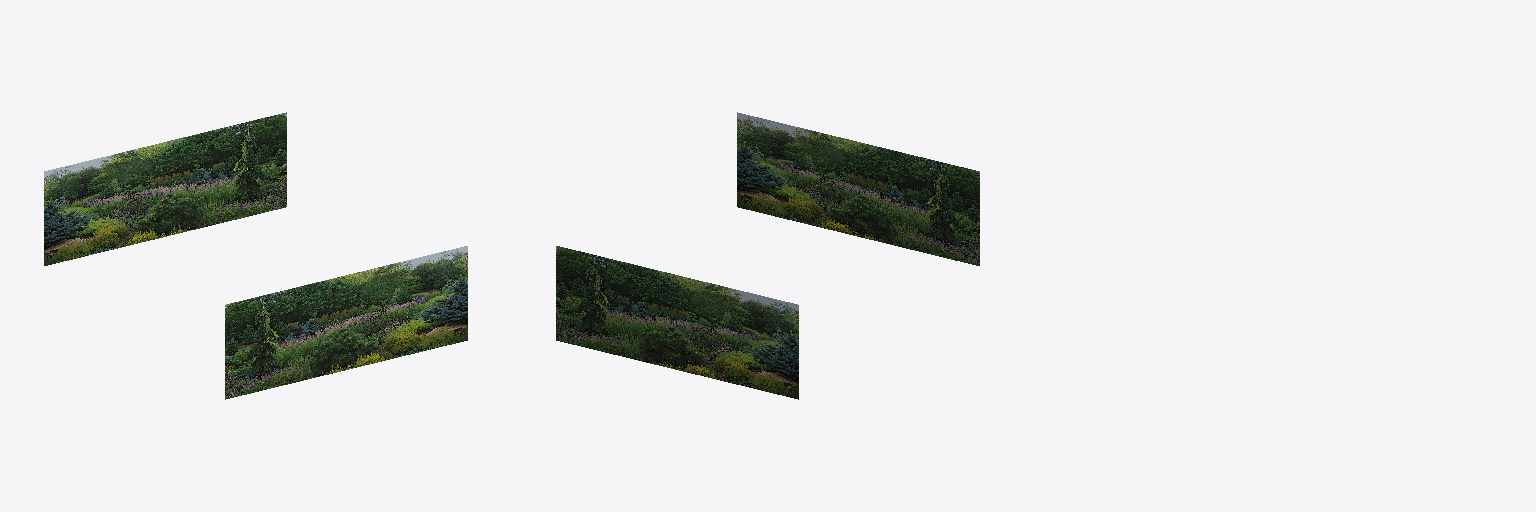
3 renders of one model, left to right at view 1: azimuth 30°, elevation 25°; view 2: azimuth 150°, elevation 25°; view 3: azimuth 270°, elevation 25°, orthographic.
Parts seen in each view (by area): view 1: garden; view 2: garden; view 3: none.
Boxes of the visible parts, <box> form: garden: <box>44,112,467,399</box>; garden: <box>556,112,979,399</box>.
Bounding box in the file's own units: 89.62 × 33.48 × 116.
1 materials, 1 textured.